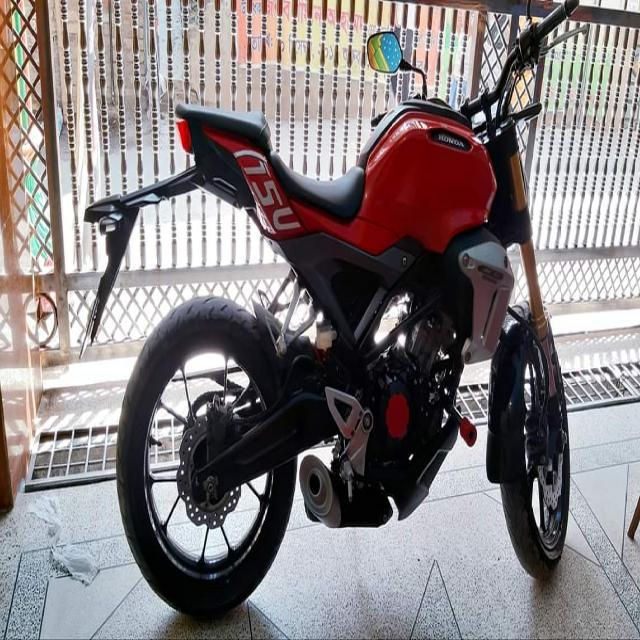Motorbike: (66, 1, 611, 615)
